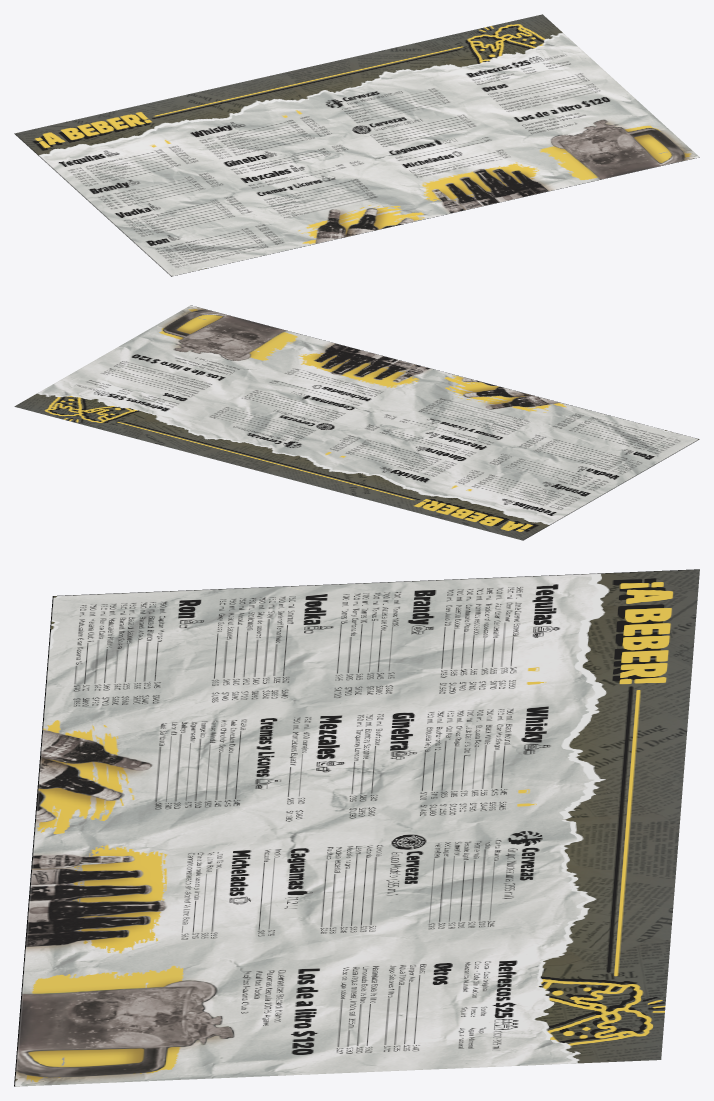
The model's file is bebida.glb.
3 views of the same model, one above another, from view 1: azimuth 30°, elevation 25°; view 2: azimuth 150°, elevation 25°; view 3: azimuth 270°, elevation 25° (orthographic). The views are drawn at different scales.
Parts seen in each view (by area): view 1: menu bebida; view 2: menu bebida; view 3: menu bebida.
Part boxes in pixels (x1,y1,x2,y2): menu bebida: [14, 14, 699, 276]; menu bebida: [14, 305, 699, 540]; menu bebida: [14, 569, 699, 1086].
Bounding box in the file's own units: 3.35 × 0.1121 × 1.94.
1 material, 1 textured.
